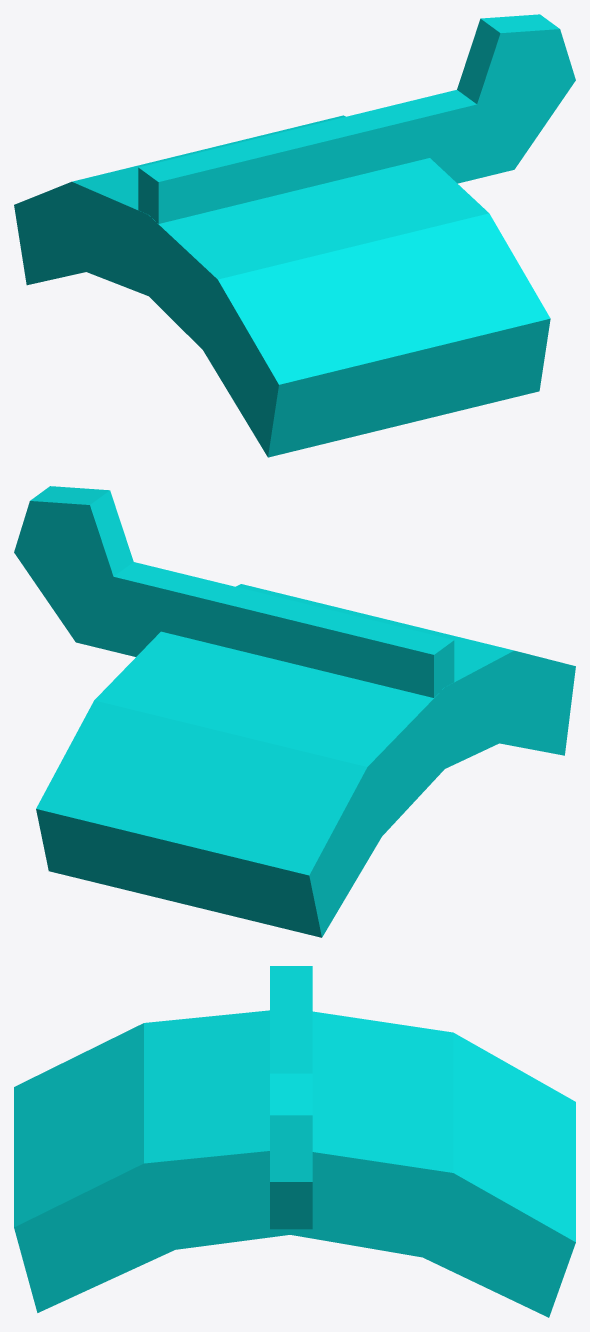
File: SM_Bld_Roof_Thatch_Preset_Overhang_03_Collision.fbx
3 views of the same model, one above another, from view 1: azimuth 30°, elevation 25°; view 2: azimuth 150°, elevation 25°; view 3: azimuth 270°, elevation 25° (orthographic). The views are drawn at different scales.
Visible parts, largest first — view 1: SM_Bld_Roof_Thatch_Preset_Overhang_03_Collision; view 2: SM_Bld_Roof_Thatch_Preset_Overhang_03_Collision; view 3: SM_Bld_Roof_Thatch_Preset_Overhang_03_Collision.
Boxes of the visible parts, box(x1,y1,x2,y2) form: SM_Bld_Roof_Thatch_Preset_Overhang_03_Collision: box(14, 14, 575, 457); SM_Bld_Roof_Thatch_Preset_Overhang_03_Collision: box(14, 486, 575, 937); SM_Bld_Roof_Thatch_Preset_Overhang_03_Collision: box(14, 966, 575, 1317).
Bounding box in the file's own units: 304 × 185 × 335.
